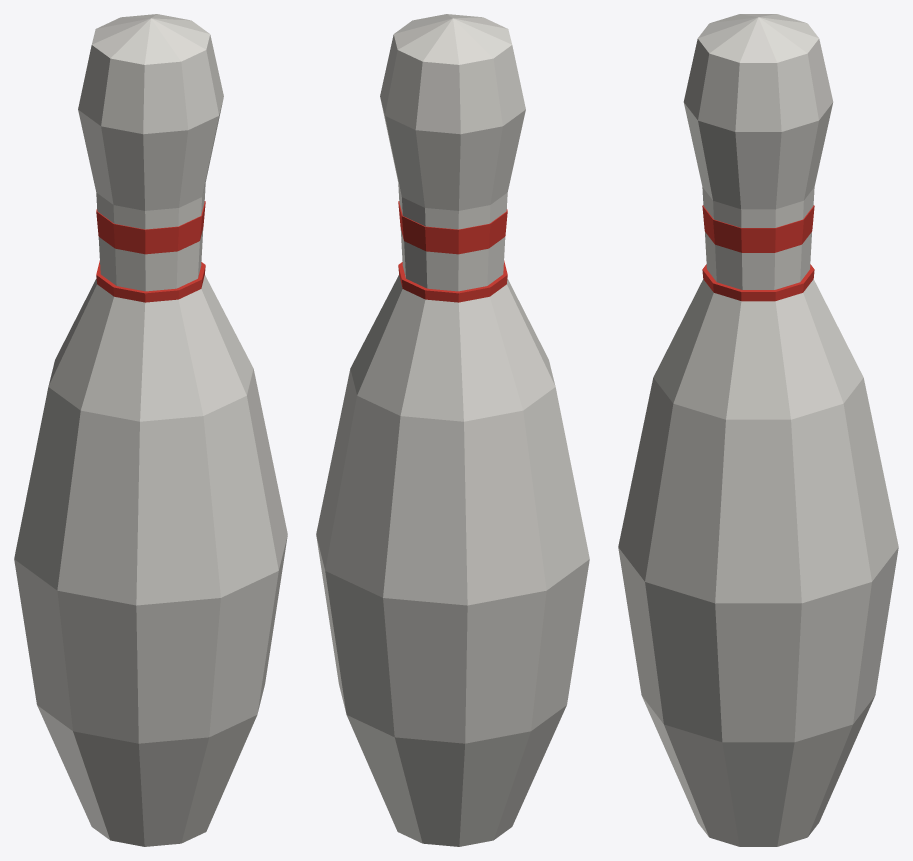
Rendered from bowling_pin.glb.
3 renders of one model, left to right at view 1: azimuth 30°, elevation 25°; view 2: azimuth 150°, elevation 25°; view 3: azimuth 270°, elevation 25°, orthographic.
Parts seen in each view (by area): view 1: pin_pin_white, stripe_pin_red; view 2: pin_pin_white, stripe_pin_red; view 3: pin_pin_white, stripe_pin_red.
Part boxes in pixels (left/top/right/bottom): pin_pin_white: left=14, top=14, right=287, bottom=846; stripe_pin_red: left=96, top=201, right=205, bottom=302; pin_pin_white: left=316, top=14, right=589, bottom=846; stripe_pin_red: left=398, top=201, right=507, bottom=302; pin_pin_white: left=618, top=14, right=898, bottom=846; stripe_pin_red: left=702, top=205, right=814, bottom=301.
Bounding box in the file's own units: 0.1141 × 0.38 × 0.12.
